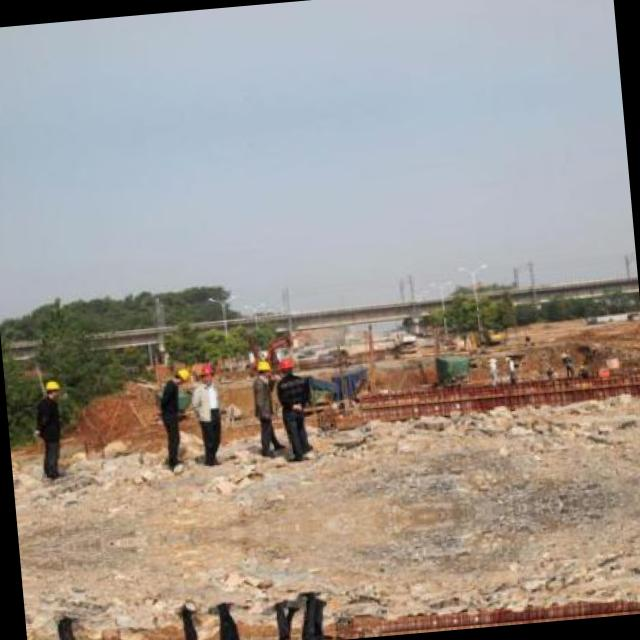helmet: (275, 352, 299, 378), (42, 374, 64, 402), (198, 359, 220, 384), (253, 355, 272, 378), (172, 366, 192, 385)
